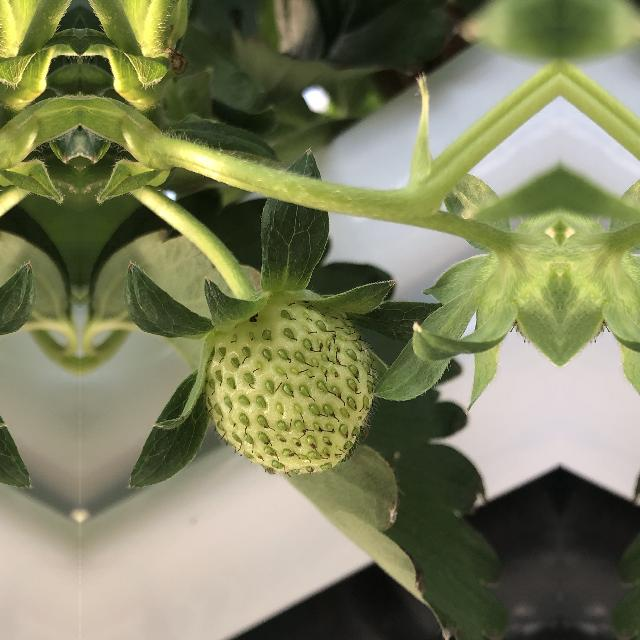Health_25: (194, 299, 388, 481)
